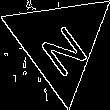N_NW: (30, 10, 89, 75)
